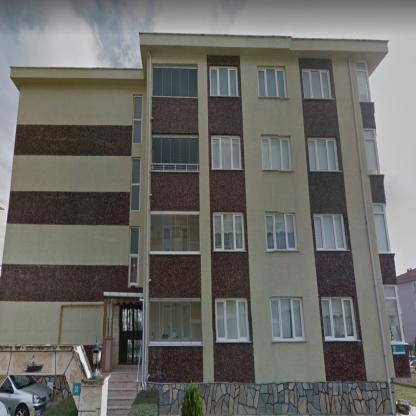door: (119, 302, 142, 365)
window: (149, 298, 201, 344), (150, 211, 200, 253), (322, 296, 358, 340), (152, 136, 198, 170), (215, 299, 250, 342), (270, 298, 305, 341), (152, 66, 198, 97), (383, 284, 406, 344), (212, 213, 244, 251), (266, 212, 298, 250), (314, 215, 347, 250), (211, 135, 241, 170), (262, 136, 292, 170), (308, 138, 338, 170), (302, 68, 332, 98), (373, 203, 391, 253), (209, 66, 238, 96), (258, 68, 286, 97), (364, 128, 381, 174), (129, 226, 139, 286), (356, 61, 371, 101), (131, 158, 141, 211), (133, 95, 142, 143)
